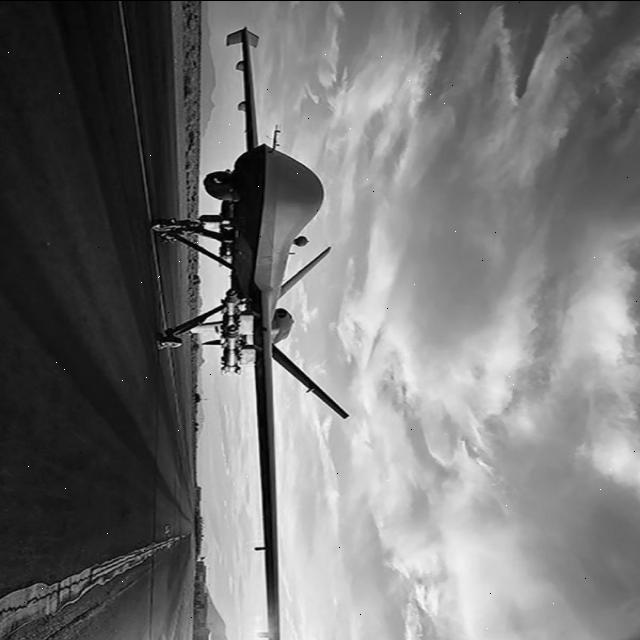MQ9: (138, 0, 440, 640)
